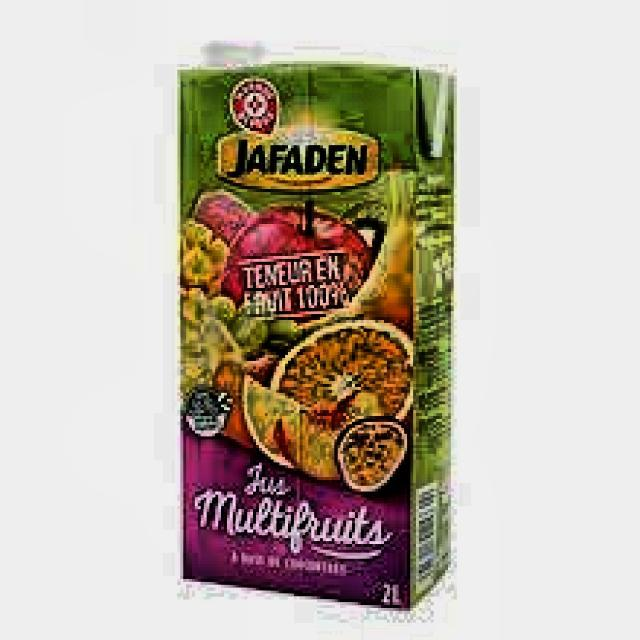cardboard: (174, 58, 454, 611)
